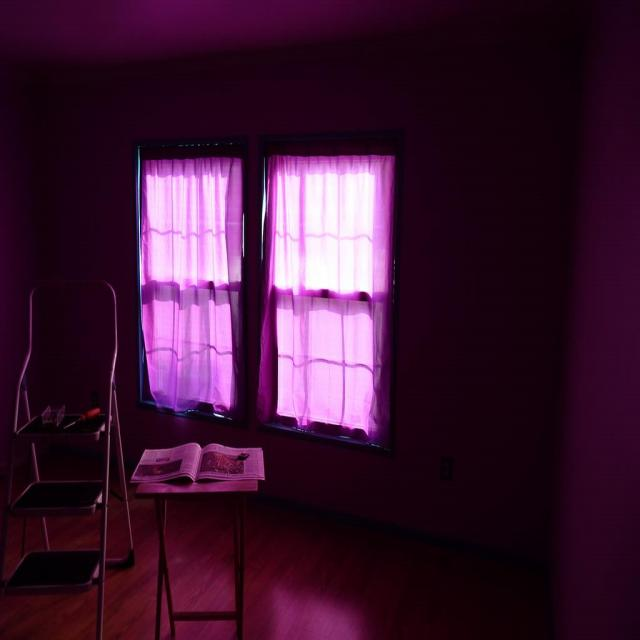Table: (124, 414, 258, 640)
